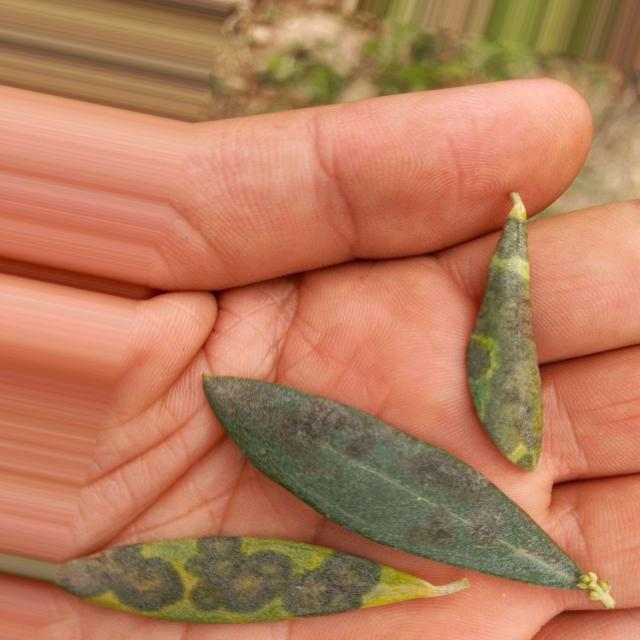Peacock Eye: (204, 376, 614, 608), (58, 537, 467, 623), (466, 193, 542, 471)
